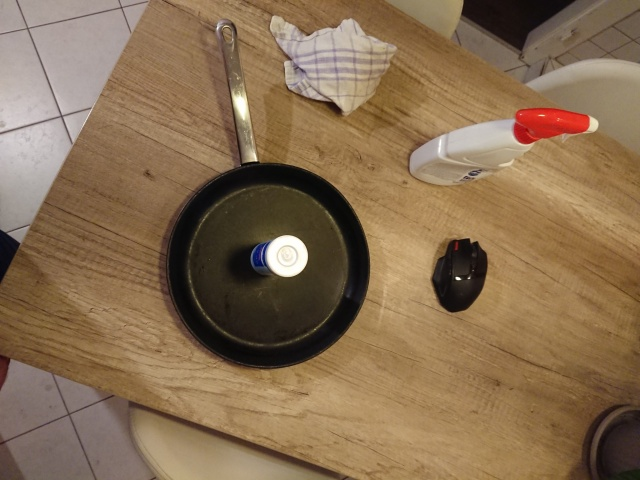Solana Pag Fine Sea Salt 250g: (246, 231, 313, 282)
